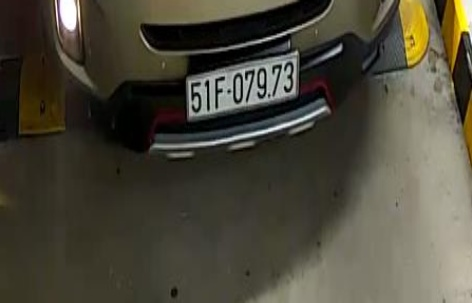plate: (180, 58, 306, 121)
